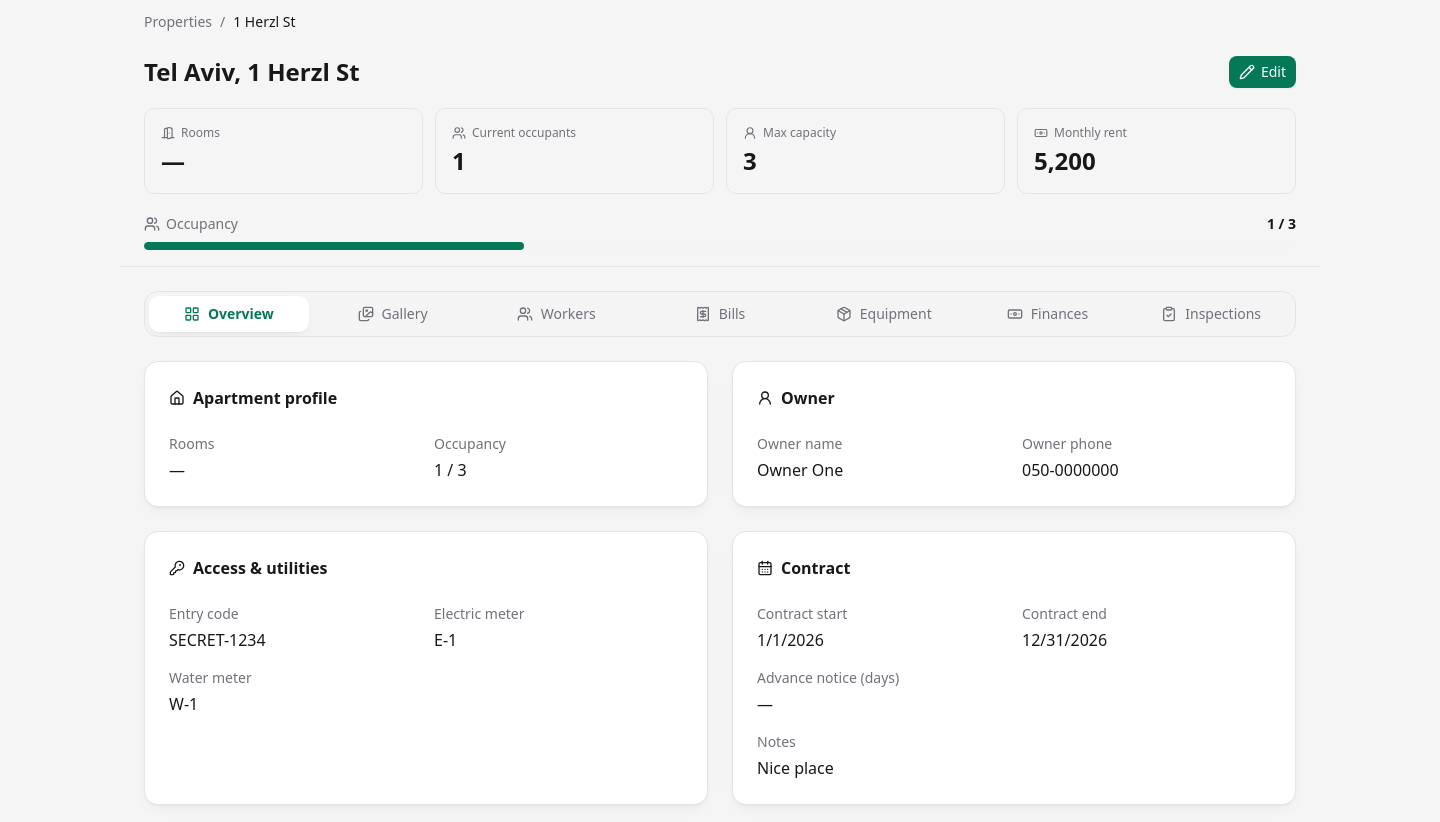
Test case: PropertyDetail › switches to the Bills tab and shows the utility-bills empty state
Press the mouse on the tab "Bills" at (720, 314), box [640,296,800,332]
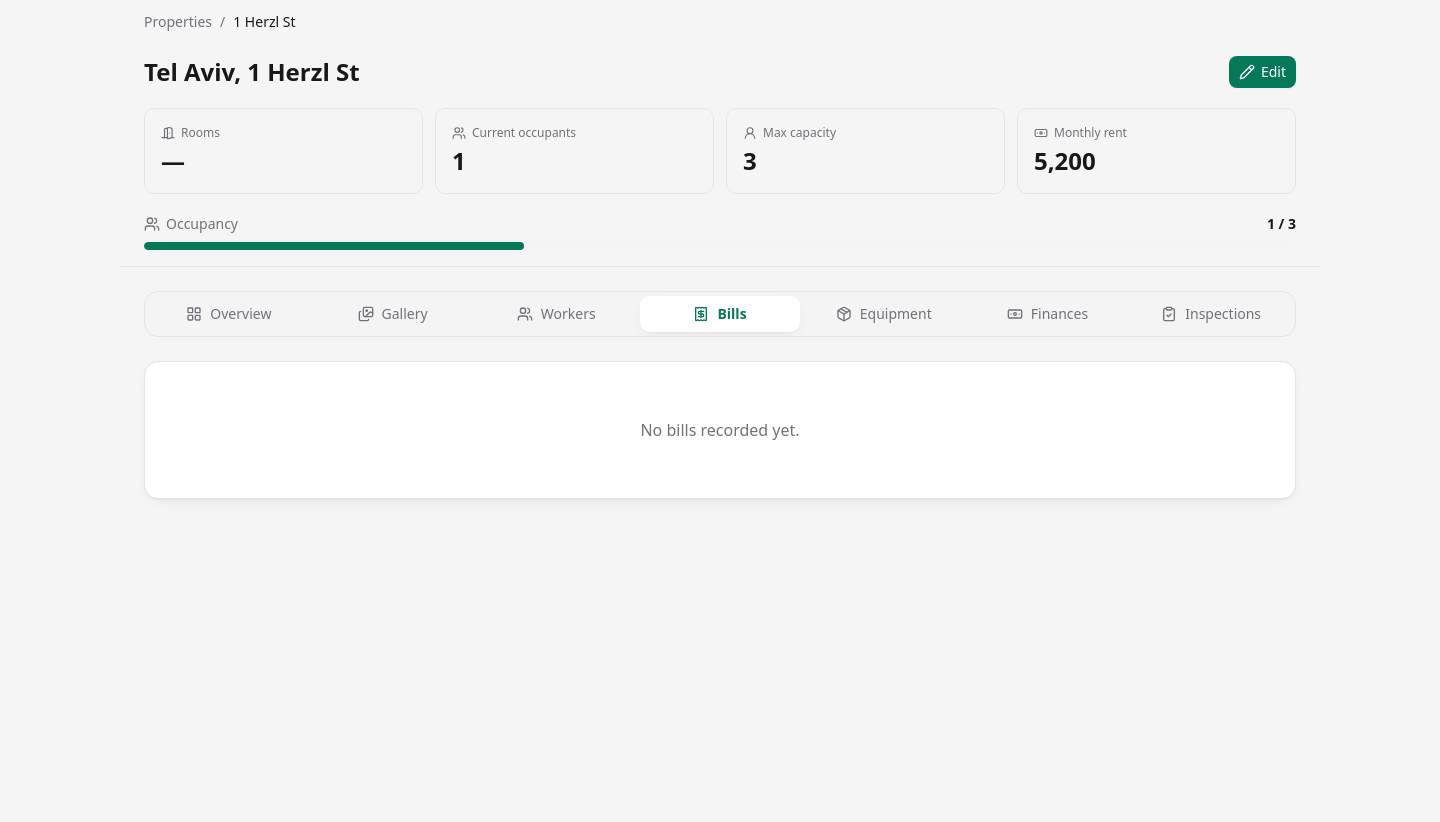
Check: the text "No bills recorded yet." is shown, box [640,419,800,441]
